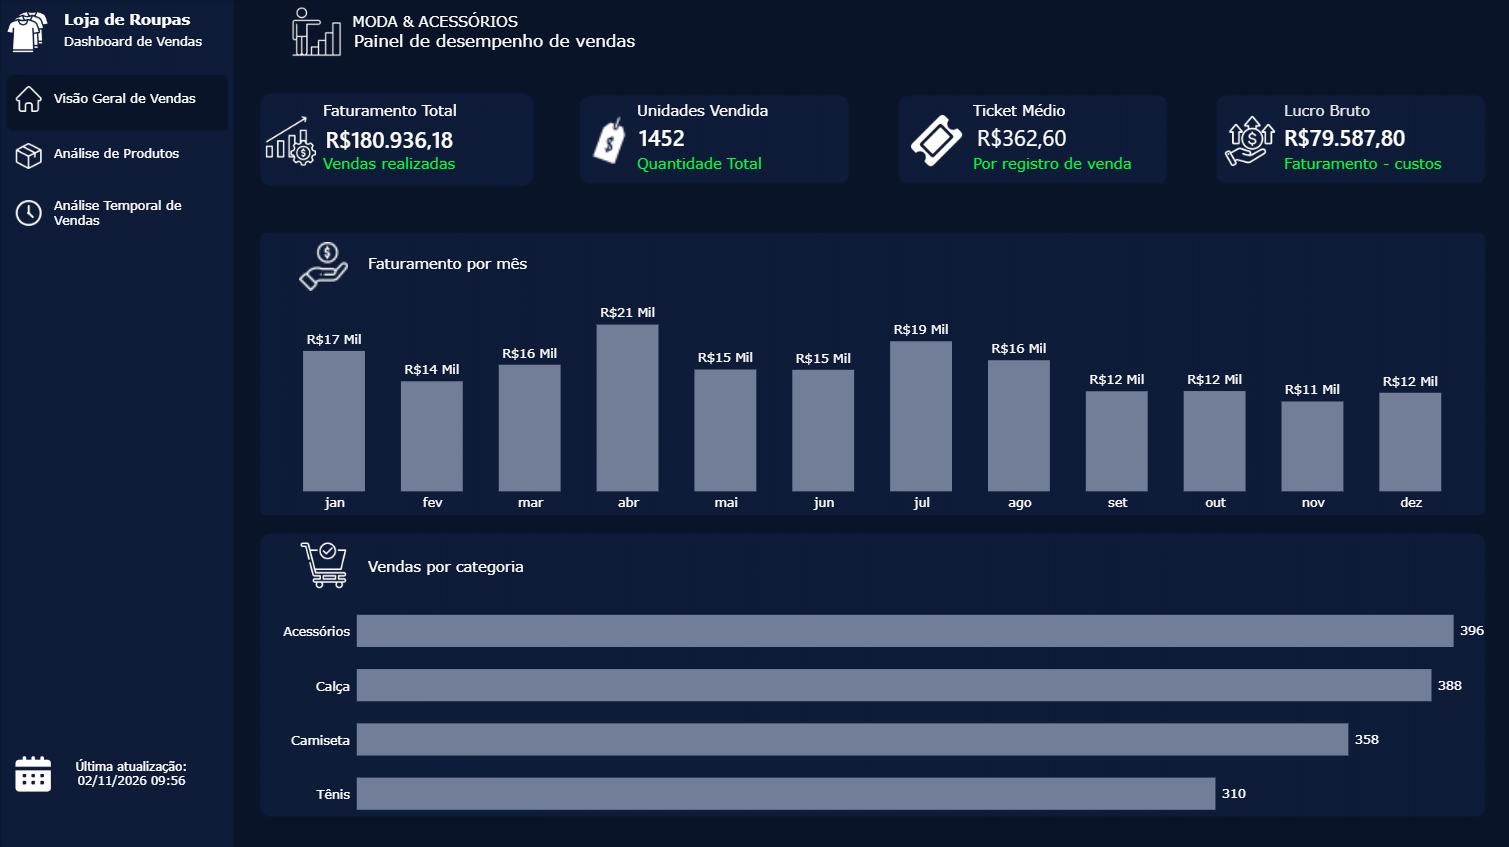

This screenshot's page, from the dashboard's own definition file:
{"tool":"powerbi","page":{"name":"Visão Geral de Vendas","canvas":[1920,1080],"ordinal":0},"visuals":[{"type":"card","fields":{"Values":["_medidas.01 Faturamento Total"]},"box":[331.1,152.8,328.3,55.2],"z":0},{"type":"card","fields":{"Values":["_medidas.04 Ticket Medio"]},"box":[1145.3,147.4,309.3,61.3],"z":1000},{"type":"card","fields":{"Values":["_medidas.02 Quantidade Vendida"]},"box":[735.7,147.1,213.6,60.8],"z":2000},{"type":"card","fields":{"Values":["_medidas.06 Lucro Bruto"]},"box":[1546.5,147.1,326.8,60.8],"z":3000},{"type":"clusteredColumnChart","fields":{"Category":["D_Calendario.MesAbreviado"],"Y":["_medidas.01 Faturamento Total"]},"box":[331.1,355.1,1557.8,302.8],"z":4000},{"type":"clusteredBarChart","fields":{"Category":["F_Vendas.Categoria"],"Y":["_medidas.02 Quantidade Vendida"]},"box":[331.1,766.9,1560.6,271.7],"z":5000},{"type":"textbox","box":[411.7,130.2,247.6,32.5],"z":6000},{"type":"textbox","box":[810.7,130.2,256.1,32.5],"z":7000},{"type":"textbox","box":[1237.2,129.8,248,33.6],"z":8000},{"type":"textbox","box":[1632.8,130.2,198.1,32.5],"z":9000},{"type":"textbox","box":[435.8,17,445.7,72.2],"z":10000},{"type":"textbox","box":[411.7,196.7,266,35.4],"z":11000},{"type":"textbox","box":[1632.8,196.7,256.1,35.4],"z":12000},{"type":"textbox","box":[810.7,196.7,256.1,35.4],"z":13000},{"type":"textbox","box":[1237.2,197,248,35],"z":14000},{"type":"textbox","box":[468.3,324,209.4,31.1],"z":15000},{"type":"textbox","box":[468.3,708.9,209.4,42.4],"z":16000},{"type":"image","box":[380.6,308.4,62.3,62.3],"z":17000},{"type":"image","box":[380.6,689,62,62],"z":18000},{"type":"textbox","box":[70,116,224,33],"z":19000},{"type":"textbox","box":[70,186,224,35],"z":20000},{"type":"textbox","box":[70,251,215,43],"z":21000},{"type":"image","box":[15.6,111,45,33],"z":22000},{"type":"image","box":[15.6,183,45,33],"z":23000},{"type":"image","box":[15.6,255,45,33],"z":24000},{"type":"textbox","box":[82,14,213,43],"z":25000},{"type":"textbox","box":[82,43,213,38],"z":26000},{"type":"image","box":[338.5,147.4,65.7,65.7],"z":27000},{"type":"image","box":[1556.7,147.4,65.7,65.7],"z":28000},{"type":"image","box":[742.6,147.4,65.7,65.7],"z":29000},{"type":"image","box":[1158.4,147.4,65,65],"z":30000},{"type":"image","box":[4.4,16,65.7,51.1],"z":31000},{"type":"image","box":[370.6,8.8,65,65],"z":32000},{"type":"card","fields":{"Values":["_medidas.11 Última Atualização"]},"box":[61.3,955.6,214.5,58.4],"z":33000},{"type":"image","box":[16,955.6,54,58.4],"z":34000},{"type":"actionButton","box":[61.3,178,173.6,42.3],"z":35000},{"type":"actionButton","box":[61.3,250.9,173.6,49.6],"z":36000}]}

Visuals, with their boxes on the page's 1920x1080 design canvas (x1, y1, x2, y2). These are canvas units, not pixel positions in the 1509x847 screenshot, which may show the page scaled, cropped or inside an application window:
card - _medidas.01 Faturamento Total: bbox(331, 153, 659, 208)
card - _medidas.04 Ticket Medio: bbox(1145, 147, 1455, 209)
card - _medidas.02 Quantidade Vendida: bbox(736, 147, 949, 208)
card - _medidas.06 Lucro Bruto: bbox(1546, 147, 1873, 208)
clusteredColumnChart - D_Calendario.MesAbreviado x _medidas.01 Faturamento Total: bbox(331, 355, 1889, 658)
clusteredBarChart - F_Vendas.Categoria x _medidas.02 Quantidade Vendida: bbox(331, 767, 1892, 1039)
textbox: bbox(412, 130, 659, 163)
textbox: bbox(811, 130, 1067, 163)
textbox: bbox(1237, 130, 1485, 163)
textbox: bbox(1633, 130, 1831, 163)
textbox: bbox(436, 17, 882, 89)
textbox: bbox(412, 197, 678, 232)
textbox: bbox(1633, 197, 1889, 232)
textbox: bbox(811, 197, 1067, 232)
textbox: bbox(1237, 197, 1485, 232)
textbox: bbox(468, 324, 678, 355)
textbox: bbox(468, 709, 678, 751)
image: bbox(381, 308, 443, 371)
image: bbox(381, 689, 443, 751)
textbox: bbox(70, 116, 294, 149)
textbox: bbox(70, 186, 294, 221)
textbox: bbox(70, 251, 285, 294)
image: bbox(16, 111, 61, 144)
image: bbox(16, 183, 61, 216)
image: bbox(16, 255, 61, 288)
textbox: bbox(82, 14, 295, 57)
textbox: bbox(82, 43, 295, 81)
image: bbox(338, 147, 404, 213)
image: bbox(1557, 147, 1622, 213)
image: bbox(743, 147, 808, 213)
image: bbox(1158, 147, 1223, 212)
image: bbox(4, 16, 70, 67)
image: bbox(371, 9, 436, 74)
card - _medidas.11 Última Atualização: bbox(61, 956, 276, 1014)
image: bbox(16, 956, 70, 1014)
actionButton: bbox(61, 178, 235, 220)
actionButton: bbox(61, 251, 235, 300)
